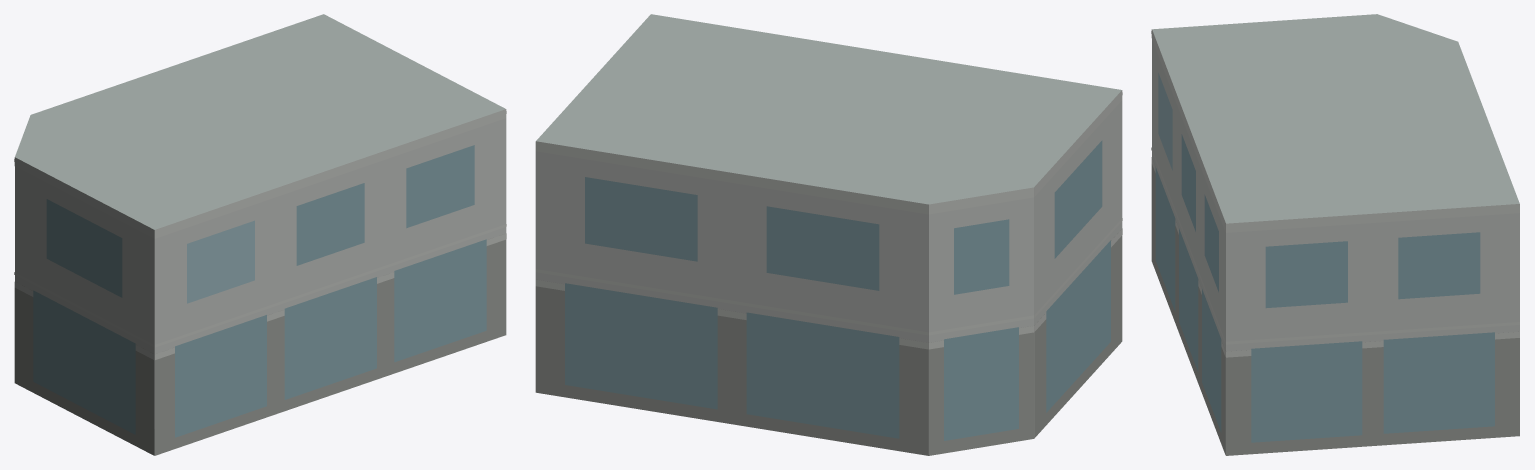
Rendered from survey-upis-32994604.glb.
The picture shows the model from 3 angles, left to right: view 1: azimuth 30°, elevation 25°; view 2: azimuth 150°, elevation 25°; view 3: azimuth 270°, elevation 25°; orthographic projection. The views are drawn at different scales.
Visible parts, largest first — view 1: survey-upis-32994604.tmp; view 2: survey-upis-32994604.tmp; view 3: survey-upis-32994604.tmp.
Part boxes in pixels (<box>): survey-upis-32994604.tmp: <box>14,14,506,455</box>; survey-upis-32994604.tmp: <box>535,14,1122,455</box>; survey-upis-32994604.tmp: <box>1151,14,1519,455</box>.
Size of the model in its own units: 11.84 by 6.1 by 8.79.
